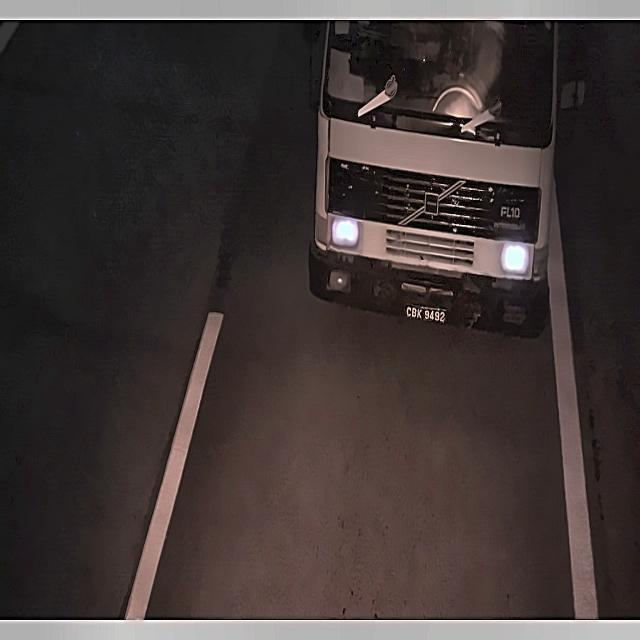car: (399, 294, 452, 330)
